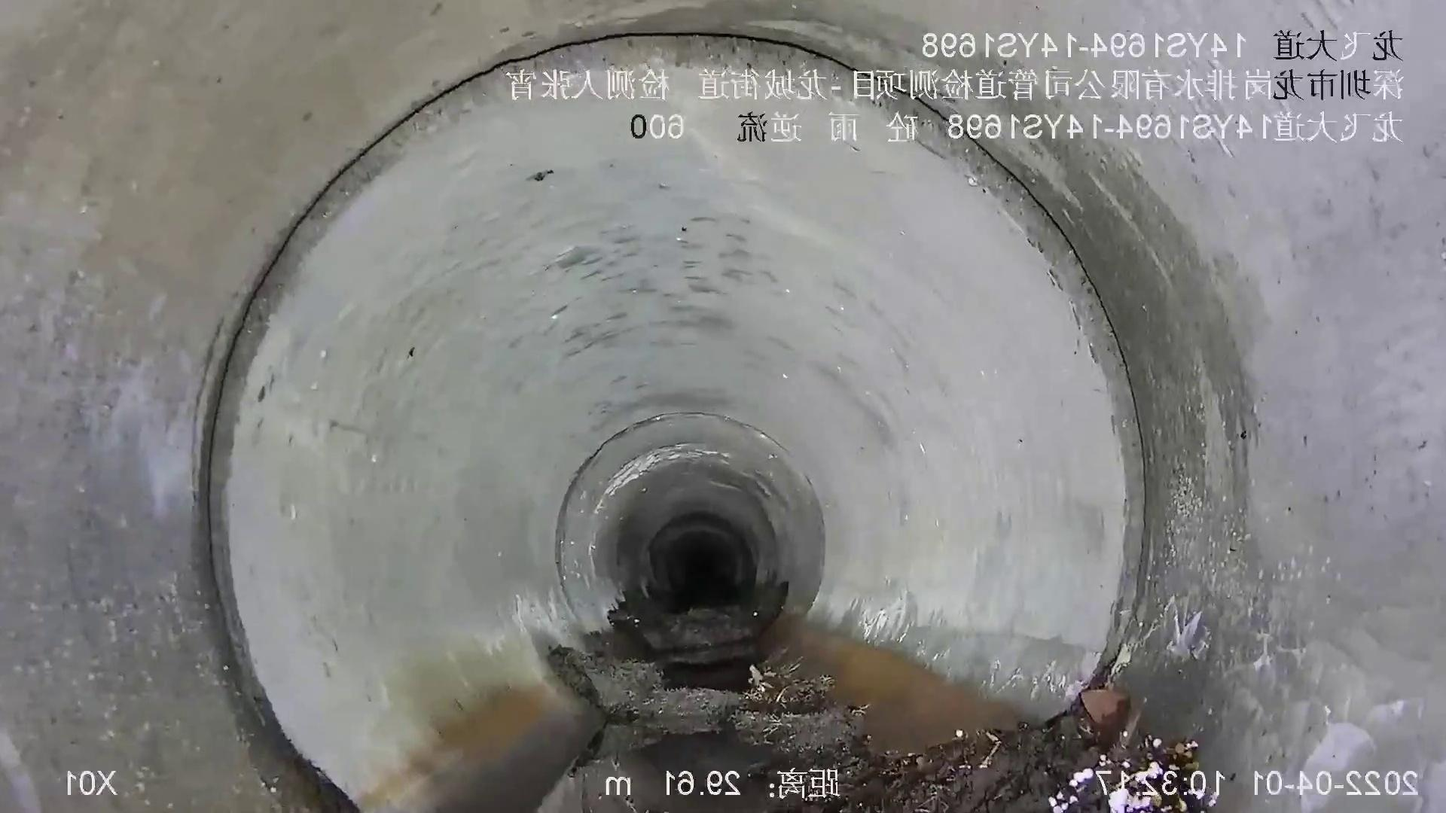CJ: (550, 604, 1212, 812)
CKTJ: (200, 29, 1152, 808)
PL: (586, 443, 738, 524)
